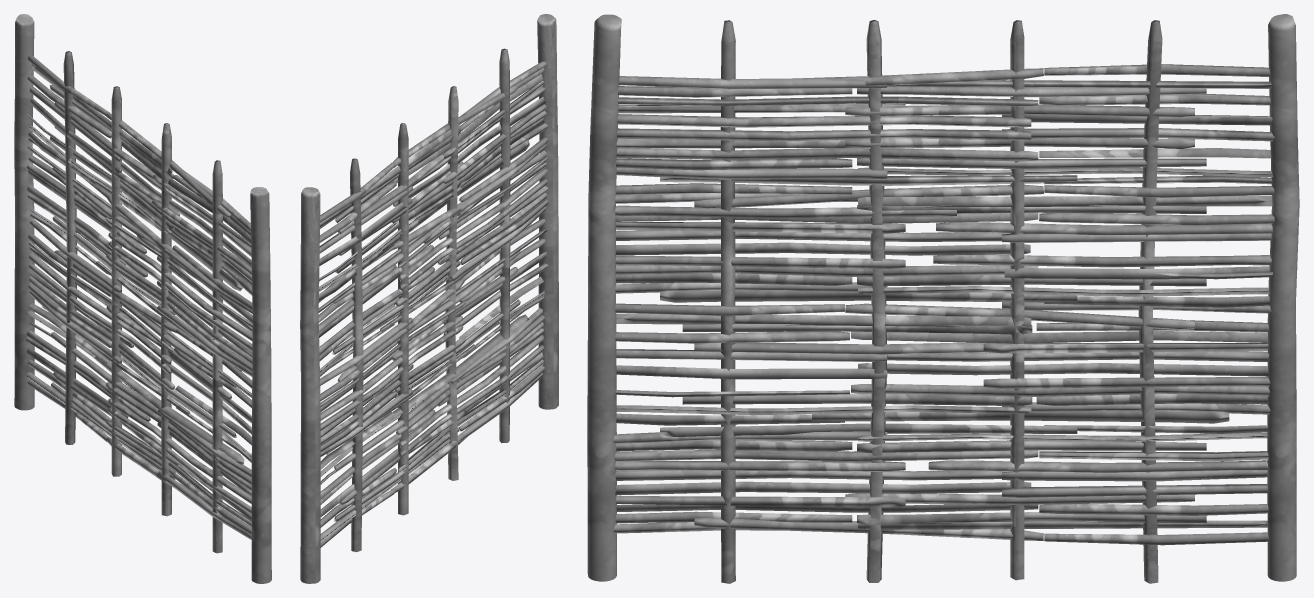
Rendered from SM_Fence_03a.fbx.
3 views of the same model, side by side, from view 1: azimuth 30°, elevation 25°; view 2: azimuth 150°, elevation 25°; view 3: azimuth 270°, elevation 25° (orthographic). The views are drawn at different scales.
Visible parts, largest first — view 1: SM_Fence_03a_LOD0; view 2: SM_Fence_03a_LOD0; view 3: SM_Fence_03a_LOD0.
Boxes of the visible parts, x1,y1,x2,y2 form: SM_Fence_03a_LOD0: (14, 14, 271, 583); SM_Fence_03a_LOD0: (300, 14, 558, 583); SM_Fence_03a_LOD0: (587, 14, 1299, 583).
Size of the model in its own units: 12.4 by 304 by 265.
